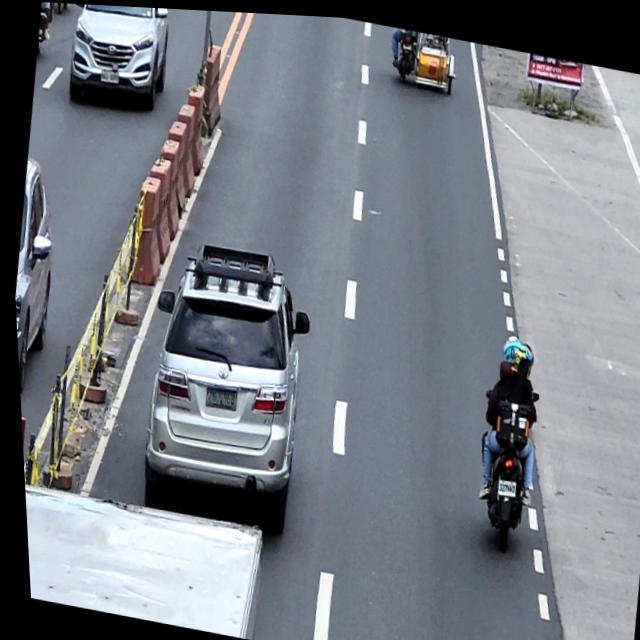Car: (123, 231, 324, 534), (6, 155, 69, 399), (61, 2, 179, 116)
License-Plate: (199, 383, 234, 411), (491, 473, 513, 494), (99, 67, 120, 84), (402, 37, 412, 47)
Motorcycle: (460, 376, 543, 552)
Tricycle: (390, 24, 462, 91)
